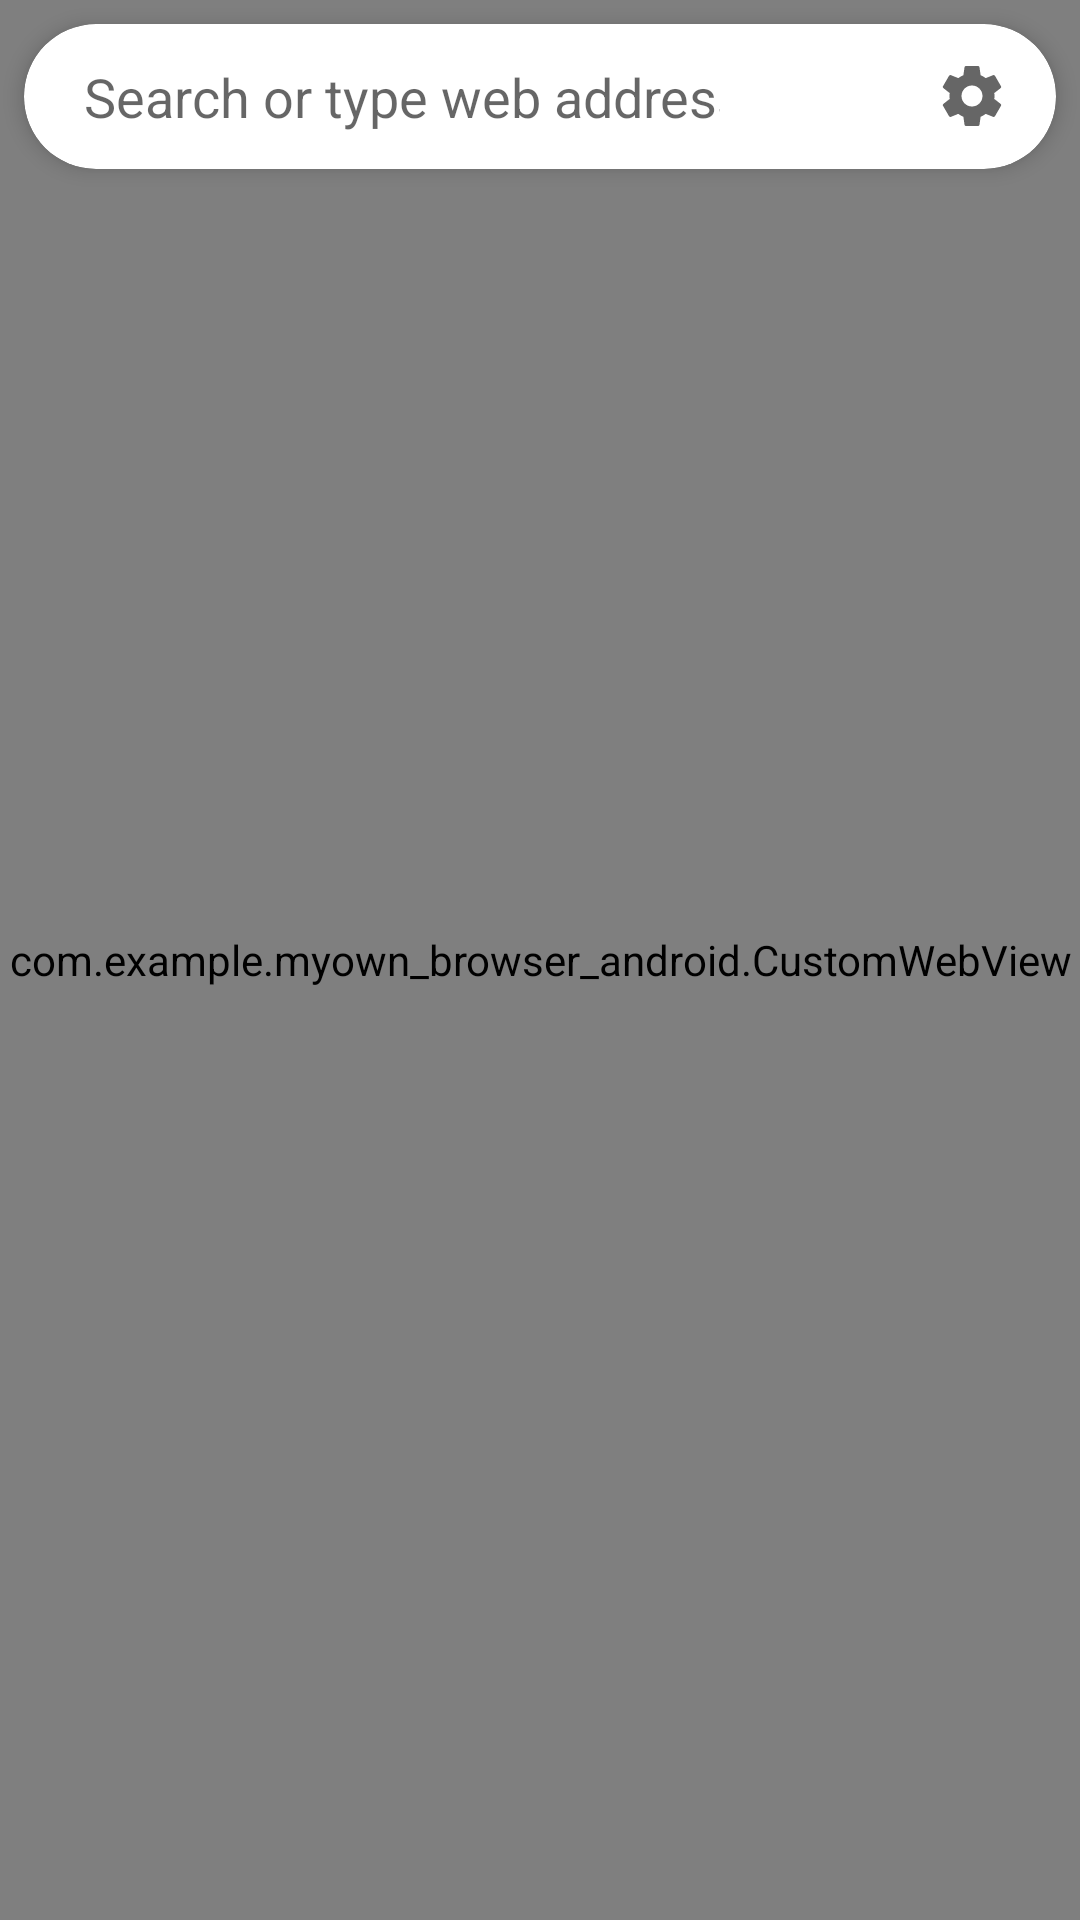

Where icons sit on this 1080x1920 app screen, as (x1, y1, x2, y2):
Settings: (900, 24, 1044, 168)
